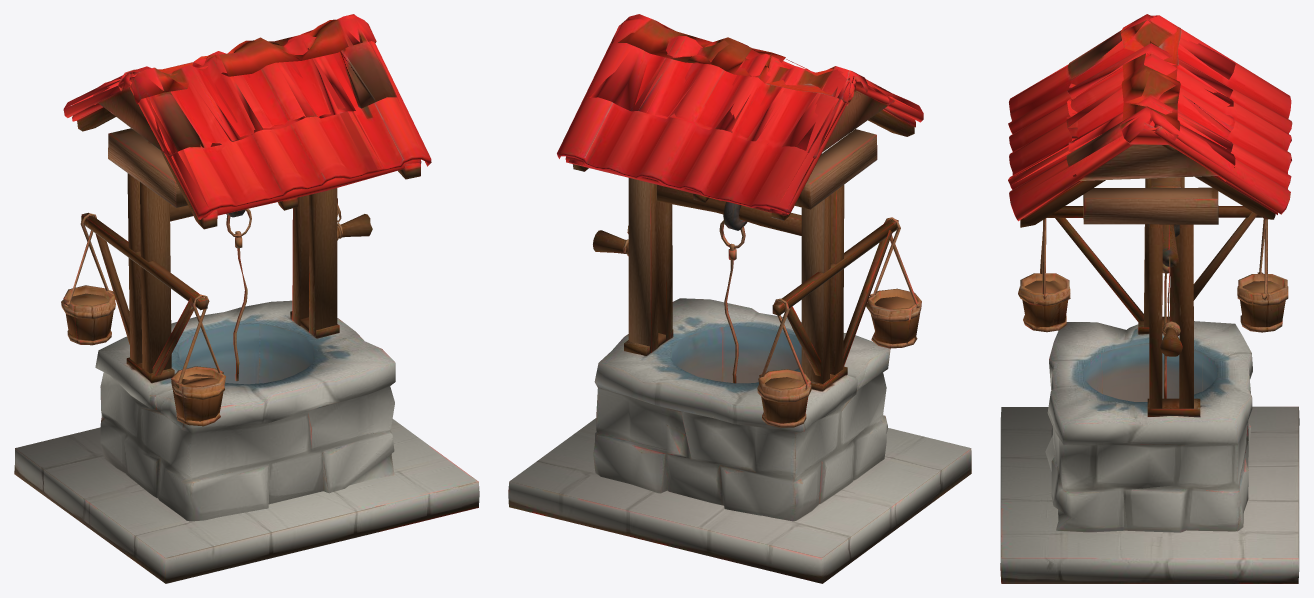
File: wellroof.glb
3 renders of one model, left to right at view 1: azimuth 30°, elevation 25°; view 2: azimuth 150°, elevation 25°; view 3: azimuth 270°, elevation 25°, orthographic.
Bounding box in the file's own units: 0.6978 × 0.9521 × 0.5796.
1 material, 1 textured.
